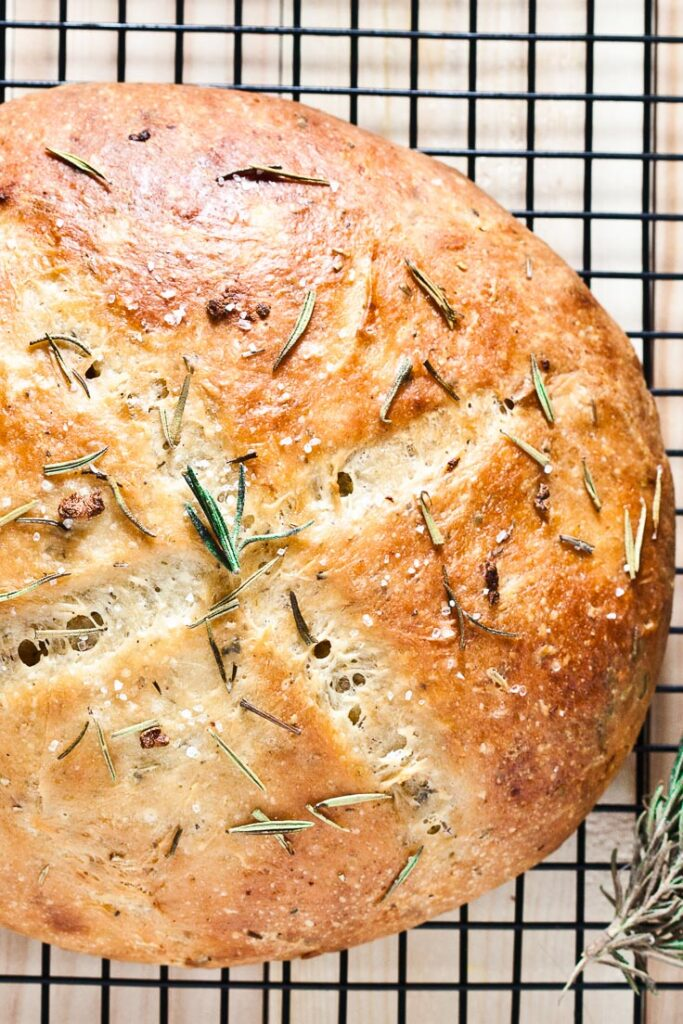Bread: (3, 62, 651, 952)
